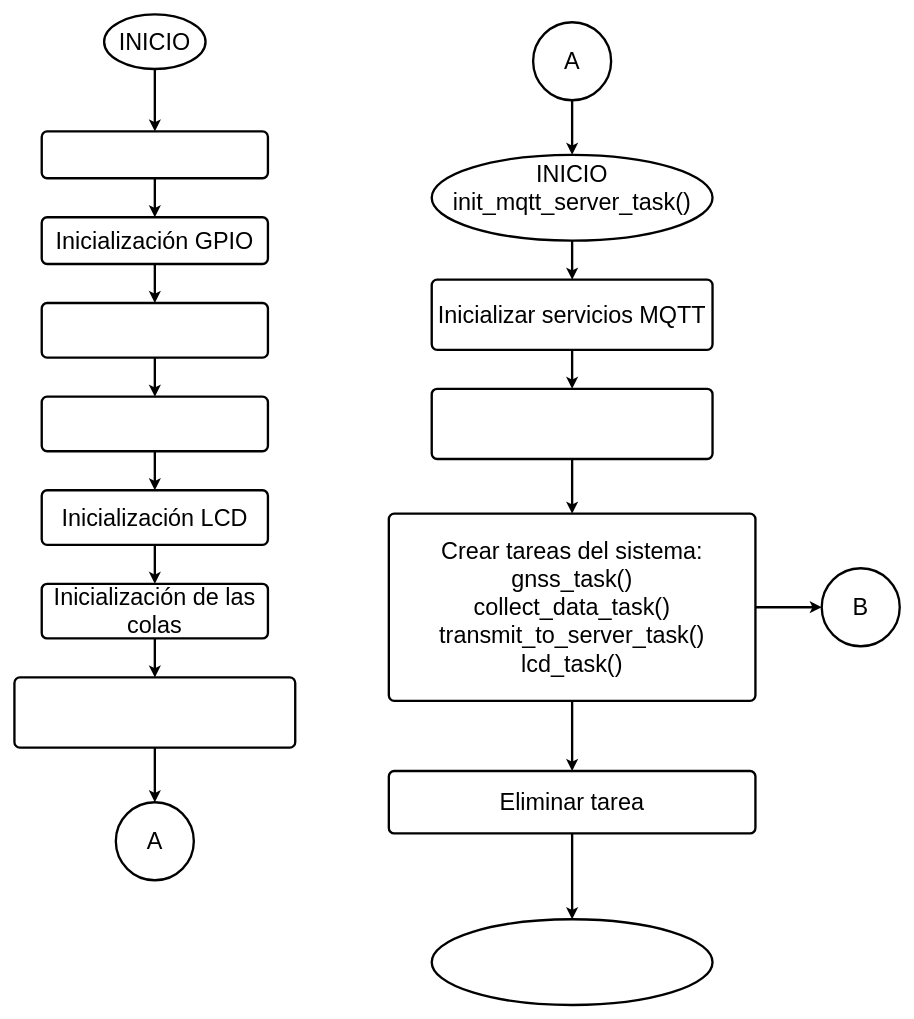
This 914x1019 diagram has some shape labels left out. The centre of each missing label's shape, as x and y in pixels:
Conectar servidor MQTT: [571,423]
Creación de la tarea init_mqtt_server_task(): [154,712]
FIN init_mqtt_server_task(): [571,962]
Inicialización del bus I2C: [154,423]
Inicialización UART: [154,154]
Instalación servicios de interrupciones: [154,329]
